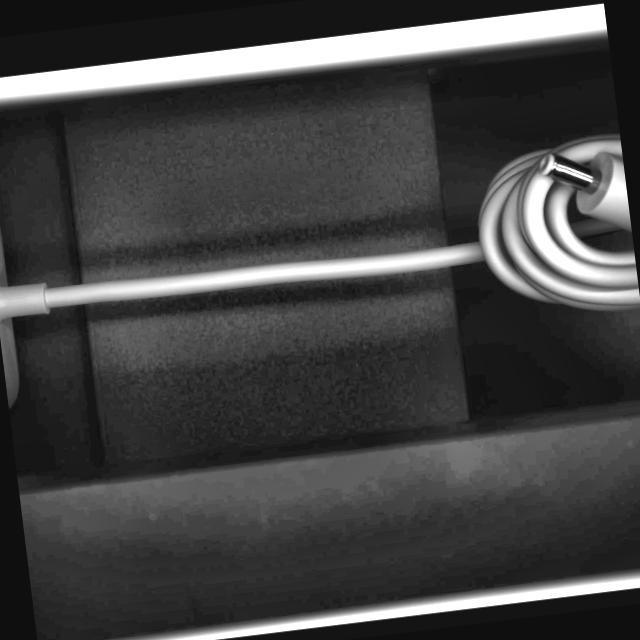Cable: (0, 89, 640, 437)
